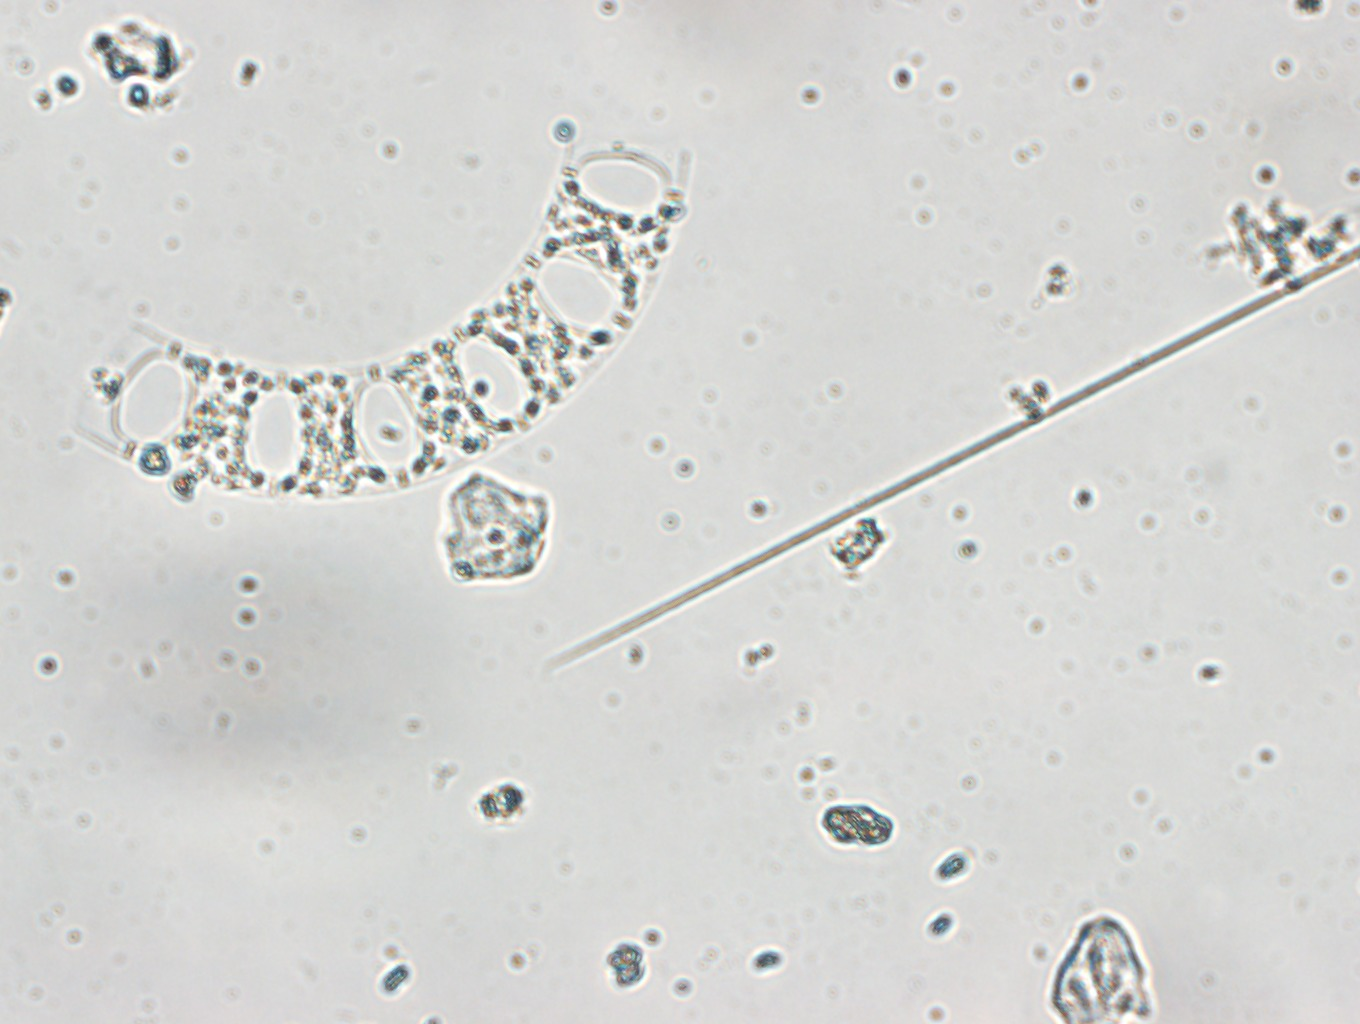eucampia: (67, 125, 693, 508)
